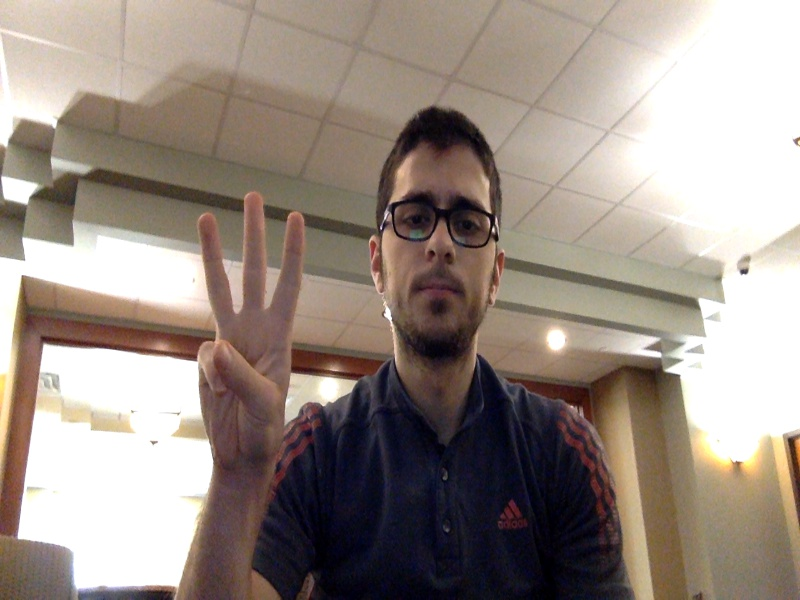3-hand: (196, 191, 306, 471)
